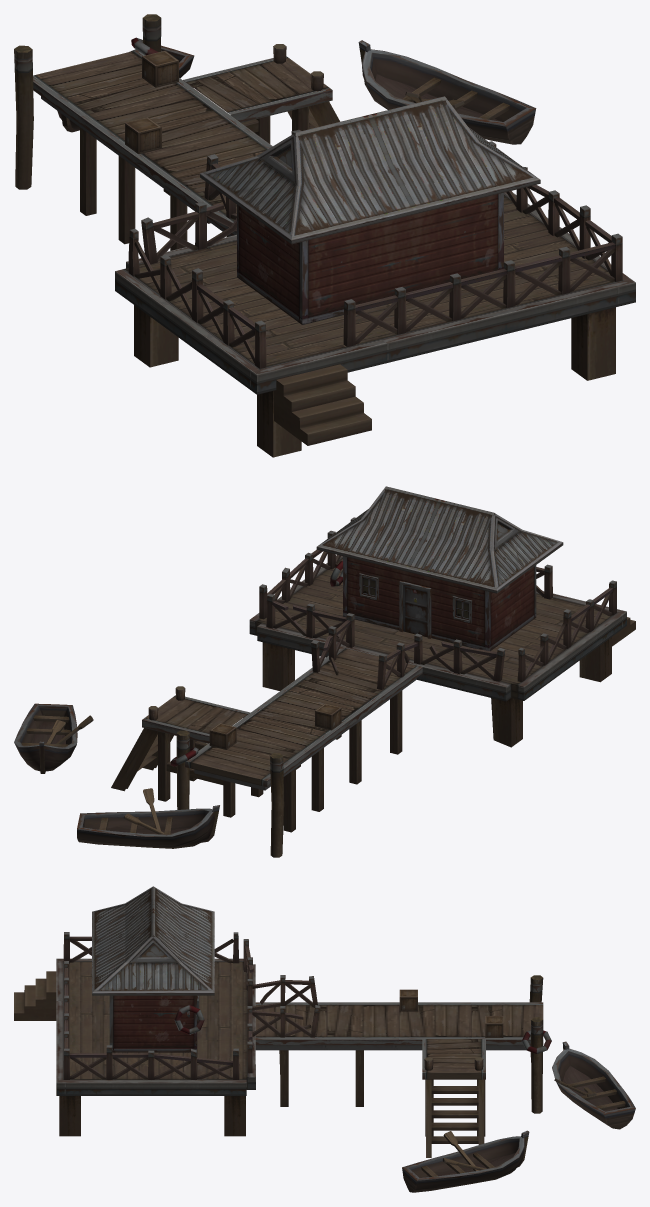
Rendered from WMWharf1.FBX.
The picture shows the model from 3 angles, top to bottom: view 1: azimuth 30°, elevation 25°; view 2: azimuth 150°, elevation 25°; view 3: azimuth 270°, elevation 25°; orthographic projection. The views are drawn at different scales.
Visible parts, largest first — view 1: matou; view 2: matou; view 3: matou.
Boxes of the visible parts, x1,y1,x2,y2 form: matou: (14, 14, 635, 457); matou: (14, 486, 635, 857); matou: (14, 886, 635, 1192).
Size of the model in its own units: 1.28 by 0.5988 by 1.88.
1 material, 1 textured.
